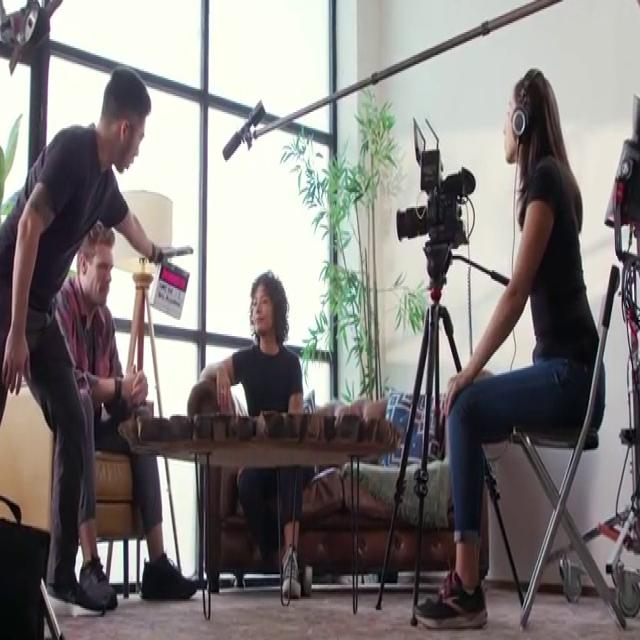Clapperboard: (150, 245, 195, 325)
